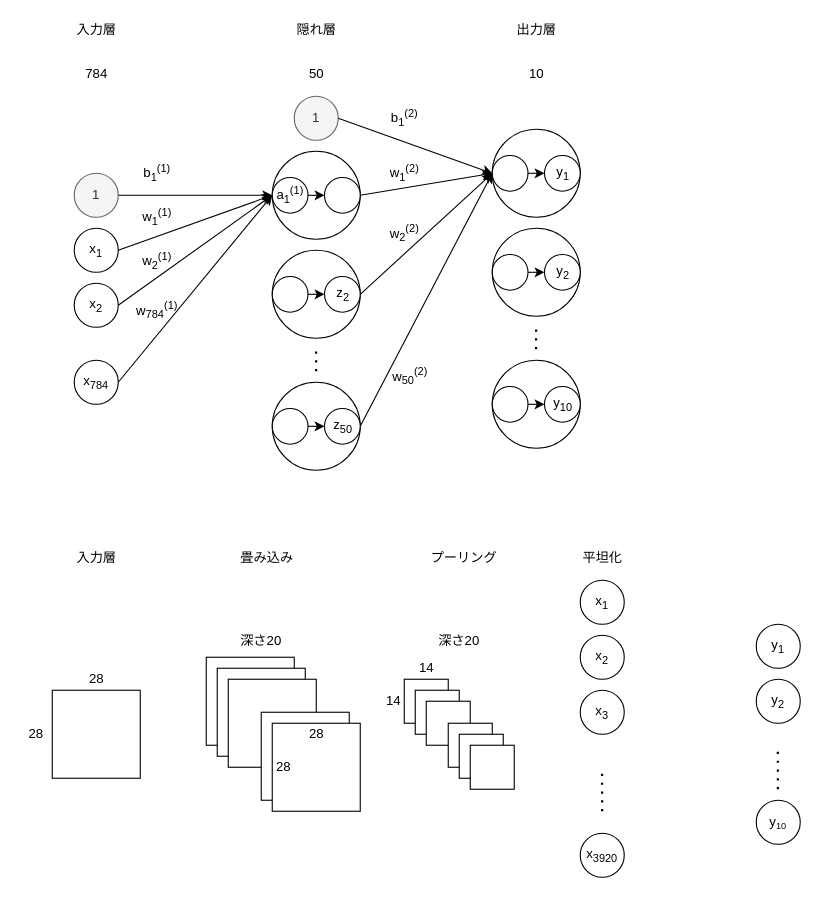
Some shapes in this 820 by 897 pixel diagram are drawn without their labels. Each missing label, with the centre of its shape:
a 1 (2): (x=509, y=172)
a 10 (2): (x=509, y=403)
a 2 (1): (x=289, y=293)
a 2 (2): (x=509, y=271)
a 50 (1): (x=289, y=425)
z 1: (x=341, y=194)
